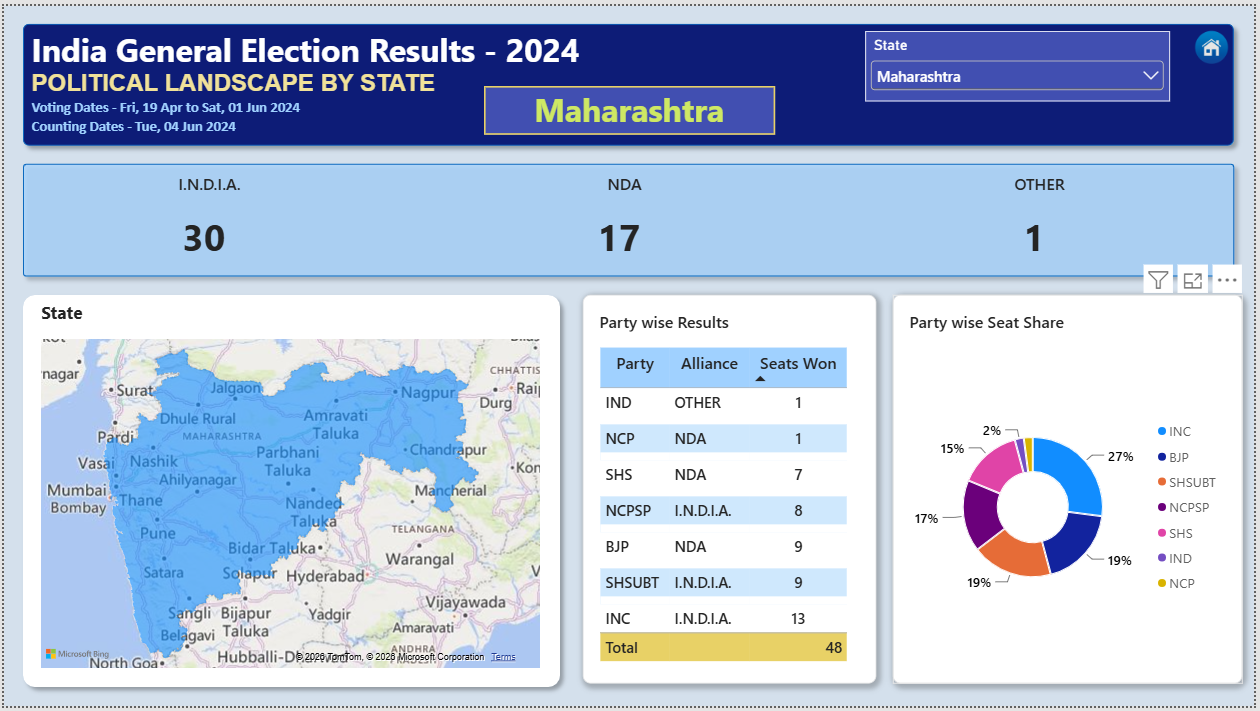

Layout of this report page (visuals, bound fields, positions):
{"tool":"powerbi","page":{"name":"Political Landscape by State","canvas":[1250,700],"ordinal":3},"visuals":[{"type":"shape","box":[10,8.8,1228.8,140],"z":0},{"type":"textbox","box":[27.5,21.2,1113.8,116.2],"z":1000},{"type":"shape","box":[9.5,148.6,1229.3,130.8],"z":2000},{"type":"cardVisual","fields":{"Data":["CountNonNull(constituencywise_results.Constituency Name)"],"Rows":["constituencywise_results.Party Alliance (results)"]},"box":[0,164.1,1229.3,104.6],"z":3000},{"type":"slicer","fields":{"Values":["states.State"]},"box":[861.1,25.6,304.4,70],"z":4000},{"type":"shape","box":[9.5,279.4,555,410],"z":5000},{"type":"filledMap","fields":{"Category":["states.State"]},"box":[21.4,279.4,531.4,398.3],"z":6000},{"type":"tableEx","title":"Party wise Results","fields":{"Values":["constituencywise_results.Party Short Name","constituencywise_results.Party Alliance (results)","CountNonNull(constituencywise_results.Constituency Name)"]},"box":[578.8,288.8,293.8,388.8],"z":7000},{"type":"donutChart","title":"Party wise Seat Share","fields":{"Category":["constituencywise_results.Party Short Name"],"Y":["CountNonNull(constituencywise_results.Constituency Name)"]},"box":[889.3,288.9,349.5,388.8],"z":8000},{"type":"card","fields":{"Values":["Min(states.State)"]},"box":[480,80,291.2,48.8],"z":9000},{"type":"image","box":[1187.8,21.1,40,40],"z":9001}]}

Visuals, with their boxes in screenshot pixels (x1, y1, x2, y2), scaled from the page's 1250x700 canvas onto the 1260x711 screenshot:
shape: detection(10, 9, 1249, 151)
textbox: detection(28, 22, 1150, 140)
shape: detection(10, 151, 1249, 284)
cardVisual - CountNonNull(constituencywise_results.Constituency Name) x constituencywise_results.Party Alliance (results): detection(0, 167, 1239, 273)
slicer - states.State: detection(868, 26, 1175, 97)
shape: detection(10, 284, 569, 700)
filledMap - states.State: detection(22, 284, 557, 688)
"Party wise Results" tableEx: detection(583, 293, 880, 688)
"Party wise Seat Share" donutChart: detection(896, 293, 1249, 688)
card - Min(states.State): detection(484, 81, 777, 131)
image: detection(1197, 21, 1238, 62)
